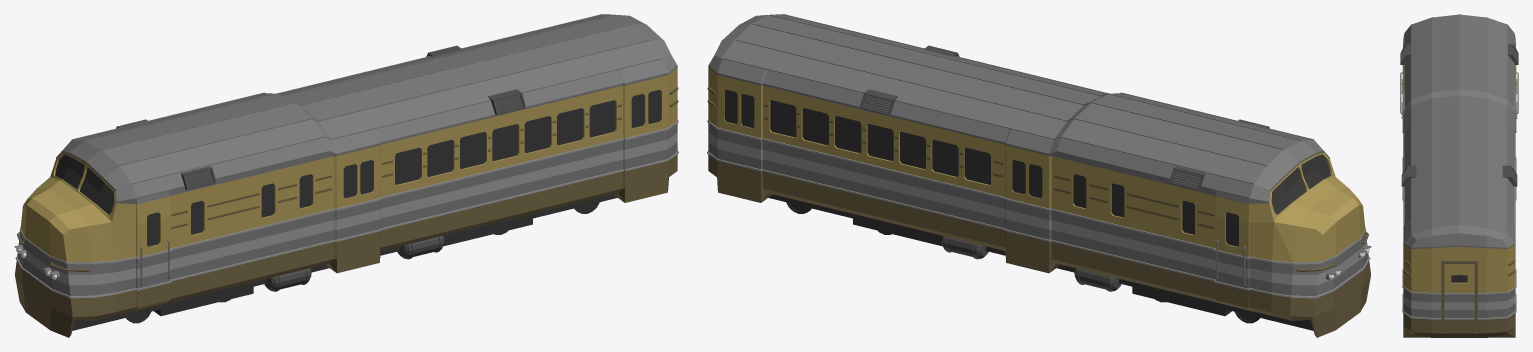
File: CargoTrain_Front.glb
3 views of the same model, side by side, from view 1: azimuth 30°, elevation 25°; view 2: azimuth 150°, elevation 25°; view 3: azimuth 270°, elevation 25° (orthographic). The views are drawn at different scales.
Visible parts, largest first — view 1: Train; view 2: Train; view 3: Train.
Boxes of the visible parts, x1,y1,x2,y2 form: Train: (14,14,678,337); Train: (707,14,1371,337); Train: (1400,14,1518,337).
Bounding box in the file's own units: 10.35 × 2.68 × 2.15.
